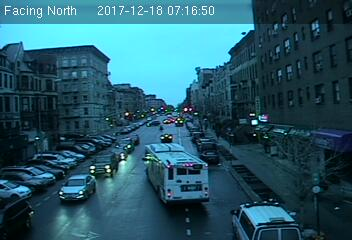bus: (144, 144, 208, 210)
car: (59, 173, 94, 202), (89, 152, 118, 175), (160, 133, 173, 141)
police: (227, 198, 304, 240)
